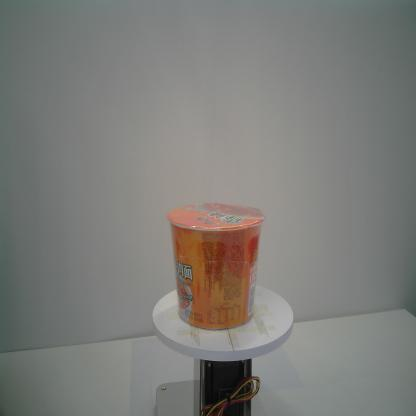Instant Noodles: (166, 200, 267, 330)
